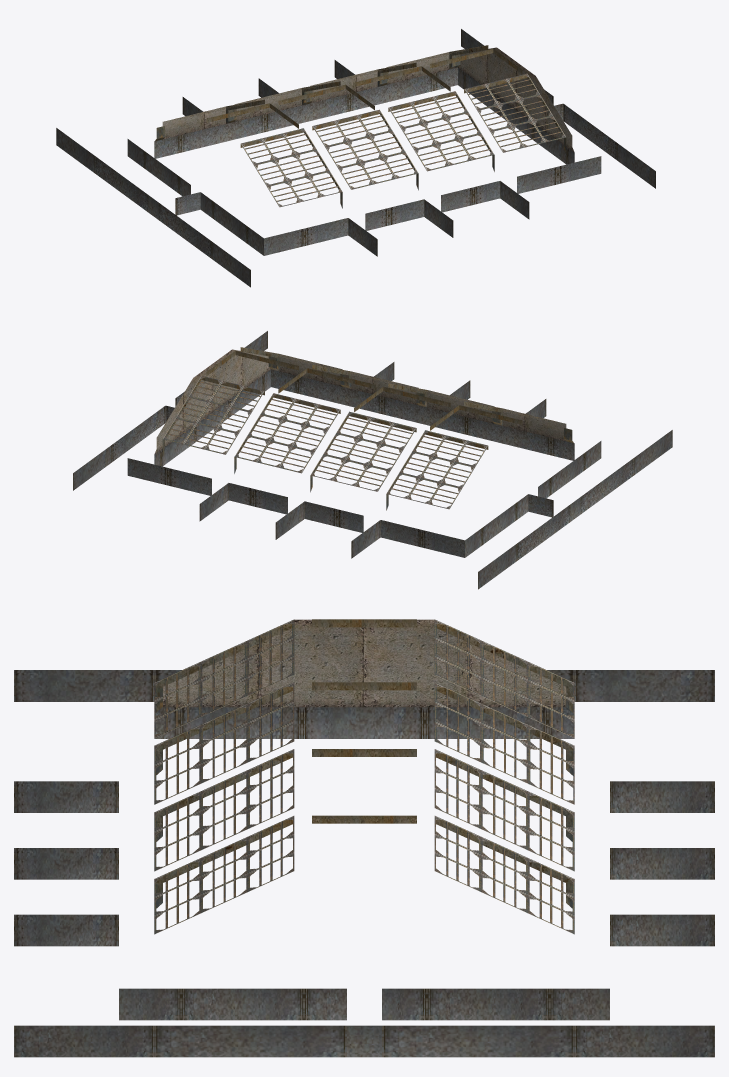
Rendered from M11Z2_SCUDHouse01_D.glb.
The picture shows the model from 3 angles, top to bottom: view 1: azimuth 30°, elevation 25°; view 2: azimuth 150°, elevation 25°; view 3: azimuth 270°, elevation 25°; orthographic projection. The views are drawn at different scales.
Visible parts, largest first — view 1: M11Z2_SCUDHOUSE01_D; view 2: M11Z2_SCUDHOUSE01_D; view 3: M11Z2_SCUDHOUSE01_D.
Boxes of the visible parts, x1=… form: M11Z2_SCUDHOUSE01_D: x1=56, y1=29, x2=655, y2=287; M11Z2_SCUDHOUSE01_D: x1=73, y1=331, x2=672, y2=589; M11Z2_SCUDHOUSE01_D: x1=14, y1=619, x2=714, y2=1057.
Bounding box in the file's own units: 30 × 4 × 20.
6 materials, 6 textured.
